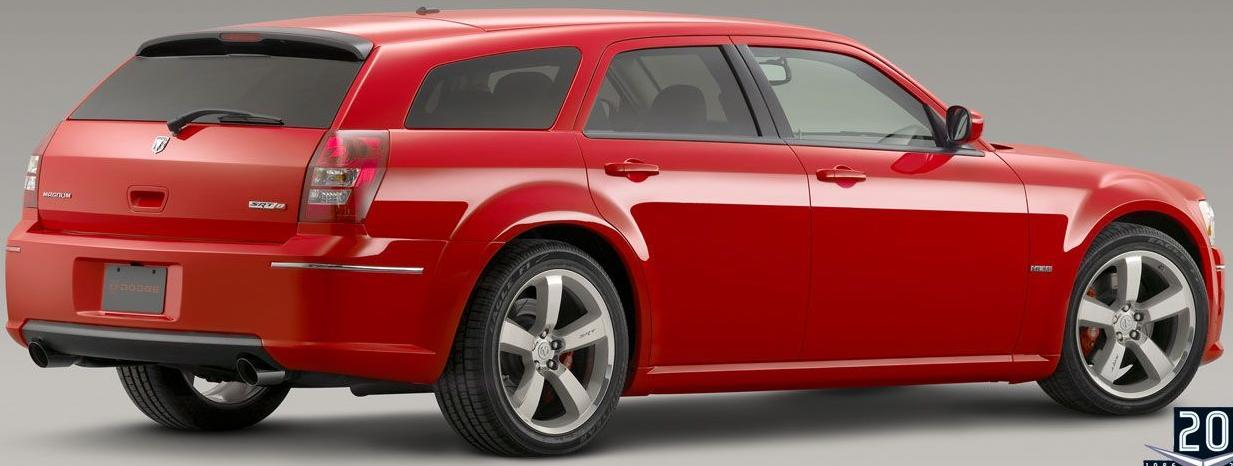back_view: (13, 136, 383, 397)
backlight: (266, 112, 376, 222)
side_glass: (551, 25, 1005, 175)
